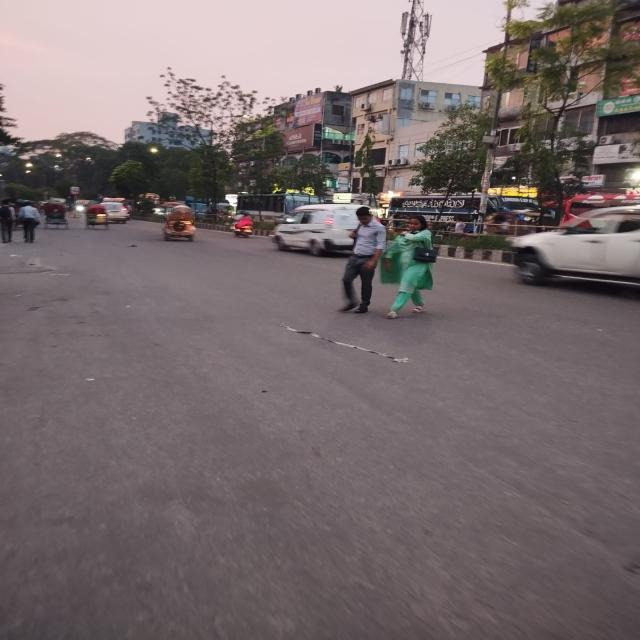person: (380, 214, 436, 320), (341, 206, 386, 314)
